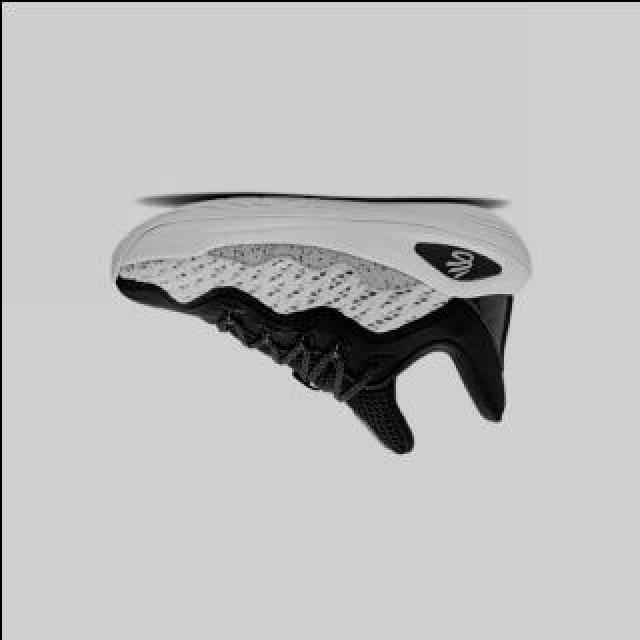shoe: (105, 192, 533, 457), (107, 196, 531, 452)
